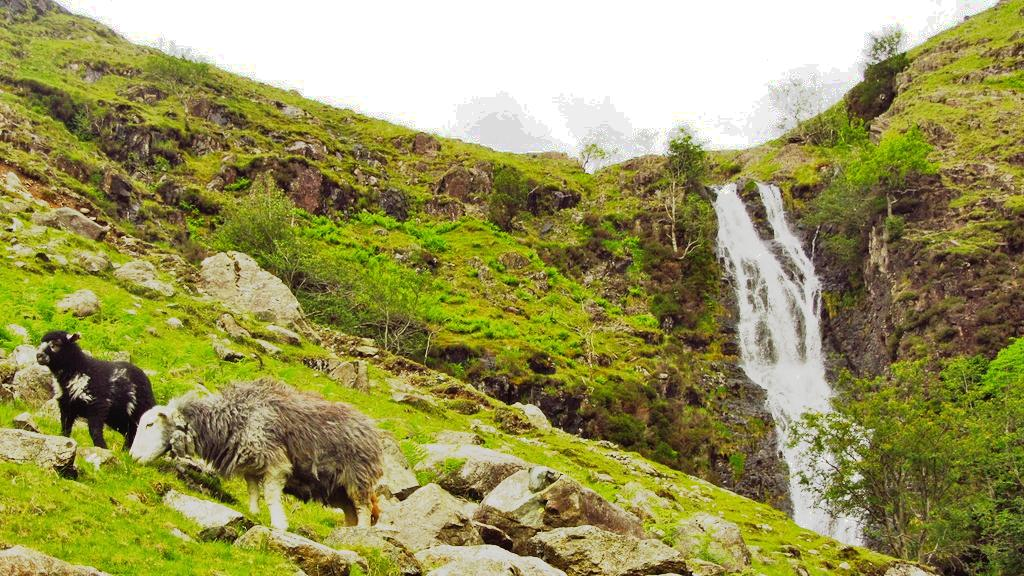Sheep: (126, 373, 388, 527), (32, 320, 156, 458)
